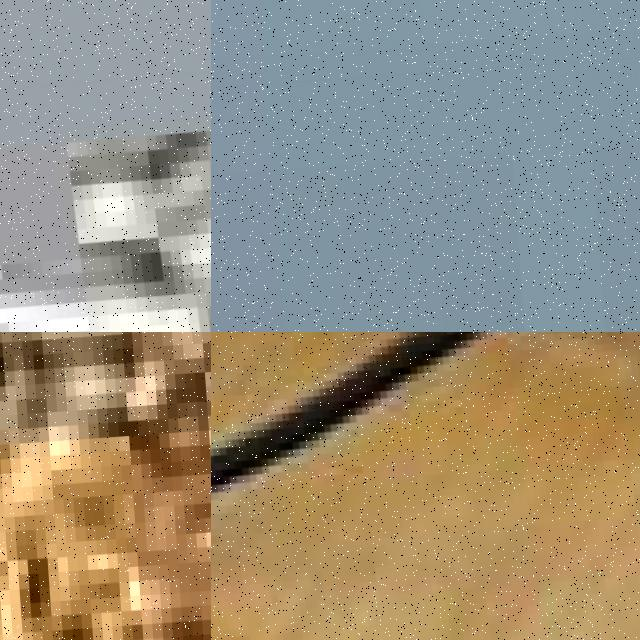0: (0, 0, 211, 332)
drone: (211, 332, 640, 640)
